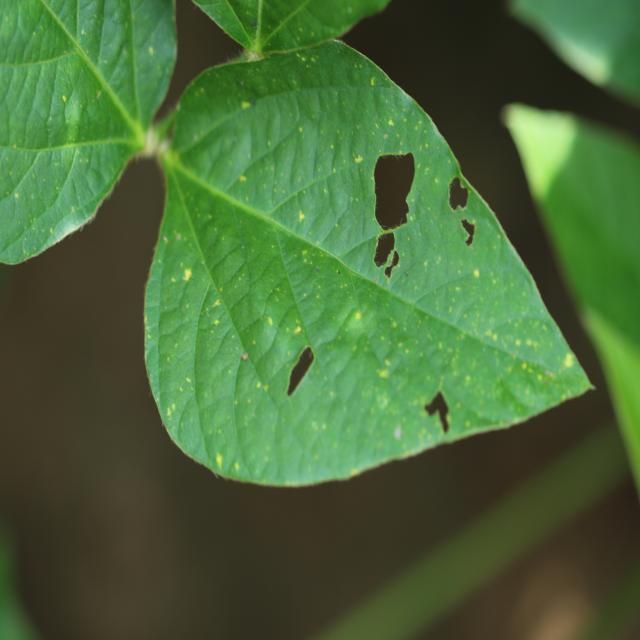Soybean: (0, 0, 621, 640)
downey_mildew: (365, 287, 585, 446), (292, 294, 432, 465), (172, 43, 363, 164), (543, 144, 640, 341), (157, 155, 240, 385), (366, 192, 512, 315), (233, 215, 316, 397), (194, 277, 265, 463), (269, 235, 370, 347), (179, 92, 277, 201), (143, 190, 185, 428), (229, 204, 322, 310), (404, 271, 534, 345), (0, 147, 83, 256), (170, 149, 262, 244), (19, 1, 113, 91), (269, 164, 378, 235), (125, 0, 177, 134), (353, 85, 432, 169), (50, 46, 117, 142), (278, 102, 331, 219), (349, 276, 414, 364), (308, 313, 370, 393), (52, 141, 118, 213), (479, 316, 564, 369), (95, 0, 136, 105), (25, 45, 67, 144), (182, 3, 259, 54), (154, 240, 197, 330), (355, 214, 478, 245), (262, 2, 332, 52), (199, 377, 238, 462), (167, 380, 206, 461), (158, 332, 197, 411), (204, 238, 249, 301), (5, 133, 127, 154), (0, 168, 35, 240), (237, 311, 279, 369), (76, 1, 109, 70), (62, 70, 87, 146), (2, 51, 89, 71), (494, 378, 532, 416), (23, 102, 51, 148), (356, 161, 370, 247), (255, 2, 264, 50)
